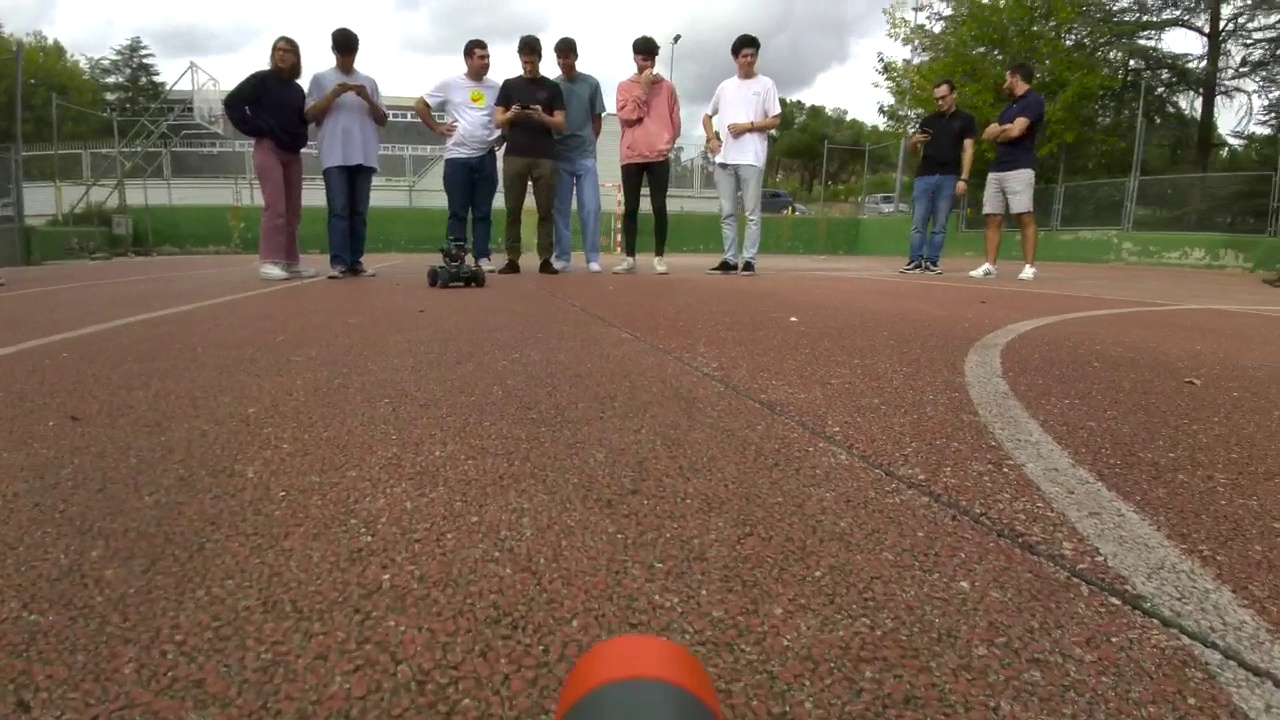robot: (427, 237, 485, 288)
